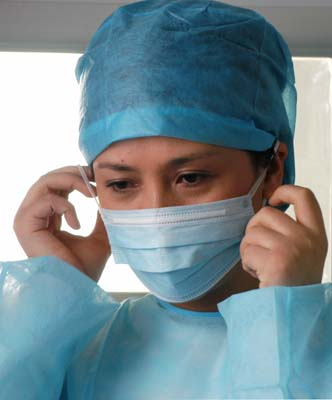face_mask: (97, 107, 252, 302)
